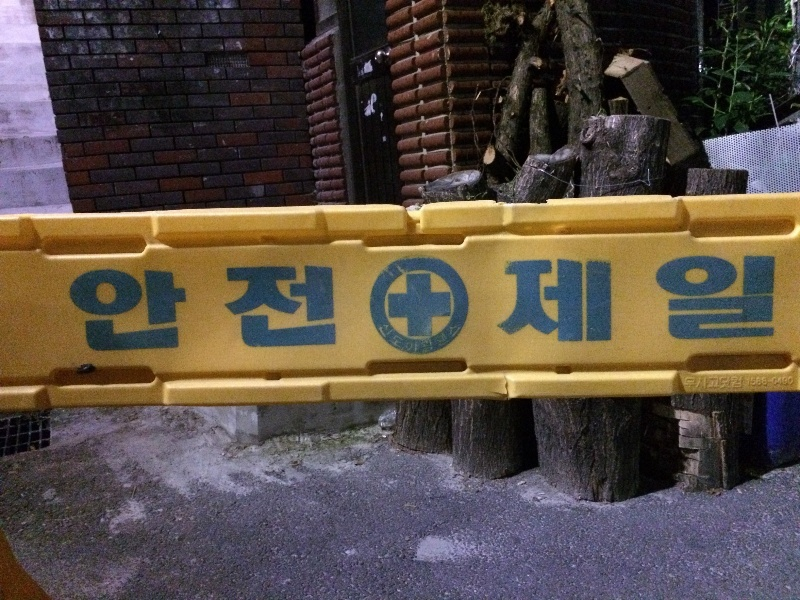text: (49, 249, 64, 369), (65, 249, 80, 369), (81, 249, 96, 369), (97, 249, 112, 369), (113, 249, 128, 369), (129, 249, 144, 369), (145, 249, 160, 369), (161, 249, 176, 369), (177, 249, 192, 369), (193, 249, 208, 369), (209, 249, 224, 369), (225, 249, 240, 369), (241, 249, 256, 369), (257, 249, 272, 369), (273, 249, 288, 369), (289, 249, 304, 369), (305, 249, 320, 369), (321, 249, 336, 369), (337, 249, 352, 369), (497, 247, 512, 356), (513, 247, 528, 356), (529, 247, 544, 356), (545, 247, 560, 356), (561, 247, 576, 356), (577, 247, 592, 356), (593, 247, 608, 356), (609, 247, 624, 356), (625, 247, 640, 356), (641, 247, 656, 356), (657, 247, 672, 356), (673, 247, 688, 356), (689, 247, 704, 356), (705, 247, 720, 356), (721, 247, 736, 356), (737, 247, 752, 356), (753, 247, 768, 356), (769, 247, 784, 356), (353, 249, 359, 369), (785, 247, 790, 356), (385, 320, 400, 349), (401, 320, 416, 349), (417, 320, 432, 349), (433, 320, 448, 349), (449, 320, 464, 349), (689, 375, 704, 392), (705, 375, 720, 392), (721, 375, 736, 392), (46, 249, 48, 369), (494, 247, 496, 356), (753, 376, 768, 389), (769, 376, 784, 389), (785, 376, 797, 389), (737, 375, 746, 392), (465, 320, 469, 349), (684, 375, 688, 392), (747, 376, 752, 389)
